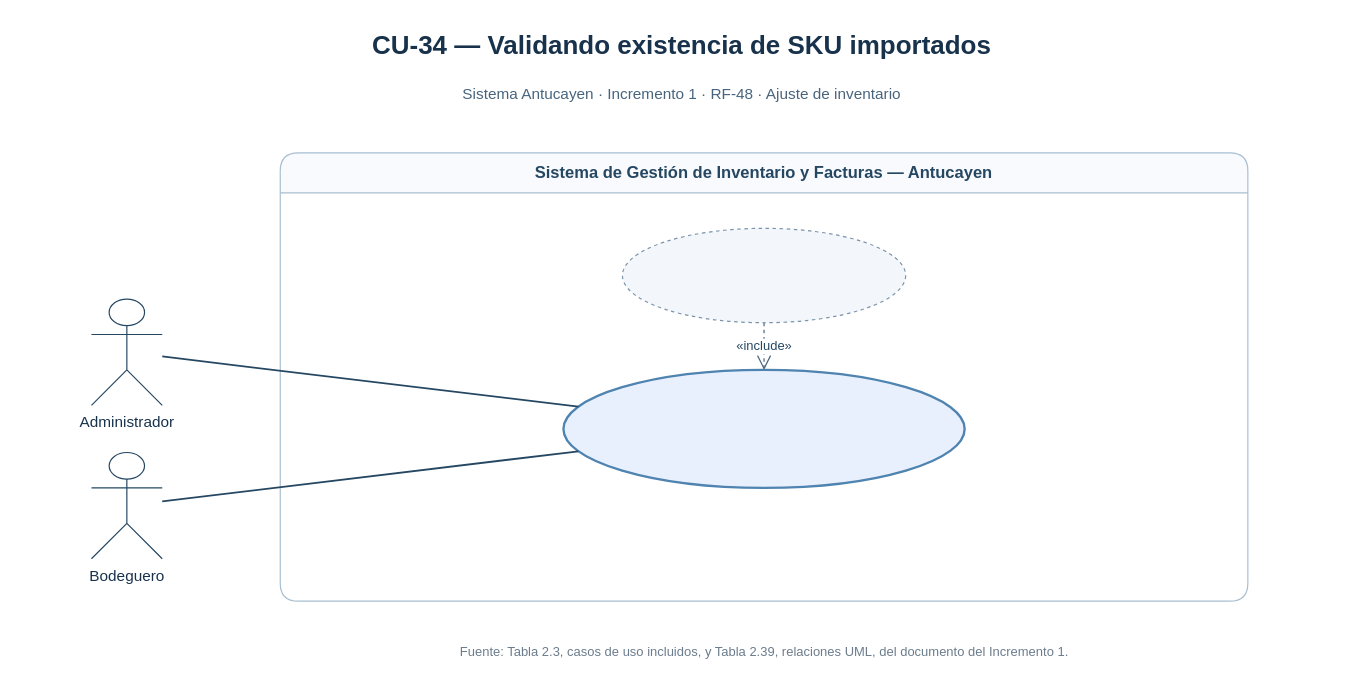
The diagram is 1362 pixels wide and 687 high, and some of its shapes have lost their labels. The shapes that lost their labels are listed below. From the top down, each one's box as (x1, y1, x2, y2) in pixels, then its label:
(621, 227, 906, 323): CU-27 Importando archivo Excel de ajuste de inventario
(562, 368, 965, 489): CU-34 Validando existencia de SKU importados
